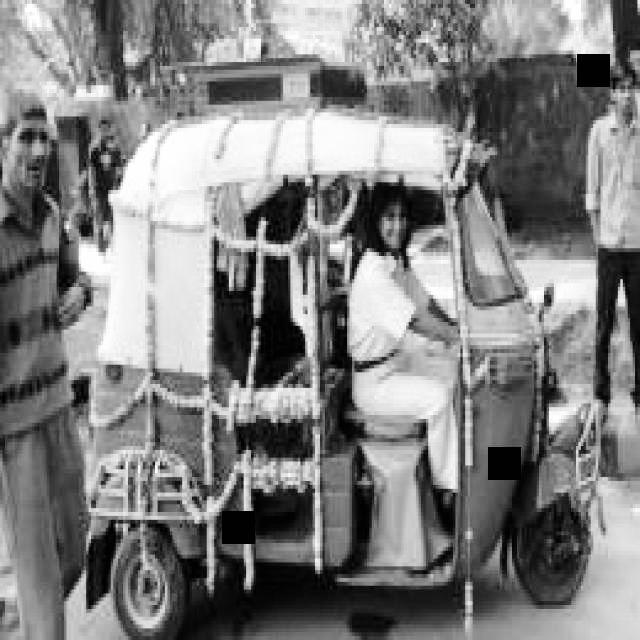Auto-Rickshaw: (74, 93, 598, 625)
